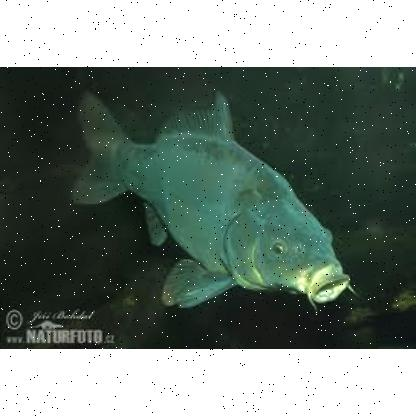ikan-mas: (70, 87, 358, 308)
